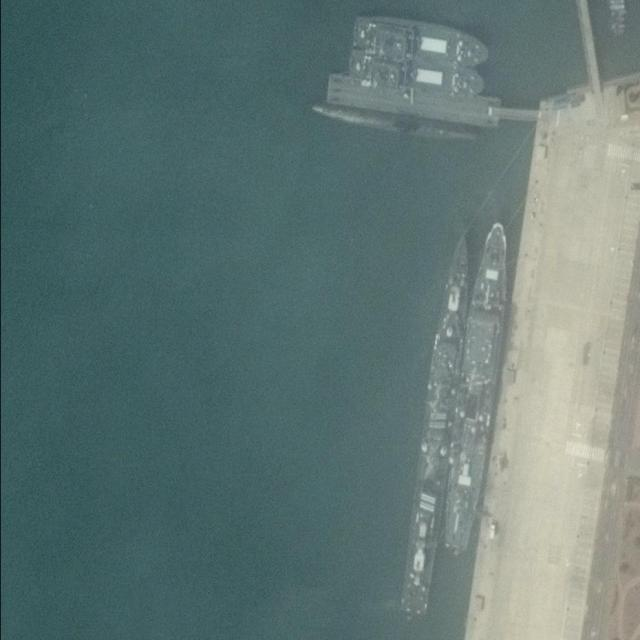Auxiliary Ships: (438, 220, 520, 553)
Destroyer: (396, 230, 479, 615)
Landing: (348, 10, 491, 68), (348, 45, 488, 98)
Submarine: (306, 96, 487, 146)
